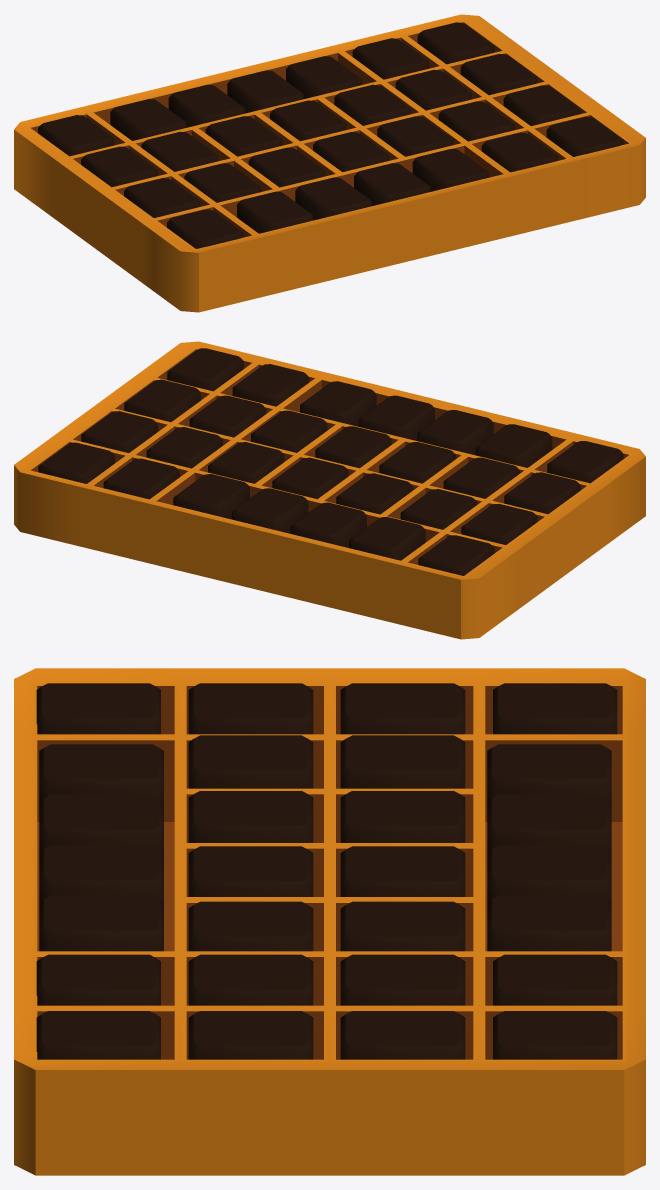
File: Choco3-2.fbx
3 views of the same model, one above another, from view 1: azimuth 30°, elevation 25°; view 2: azimuth 150°, elevation 25°; view 3: azimuth 270°, elevation 25° (orthographic). The views are drawn at different scales.
Parts seen in each view (by area): view 1: Choco3-2; view 2: Choco3-2; view 3: Choco3-2.
Part boxes in pixels (x1,y1,x2,y2): Choco3-2: (14,14,645,312); Choco3-2: (14,341,645,639); Choco3-2: (14,668,645,1175).
Size of the model in its own units: 23.22 by 2.96 by 15.45.
